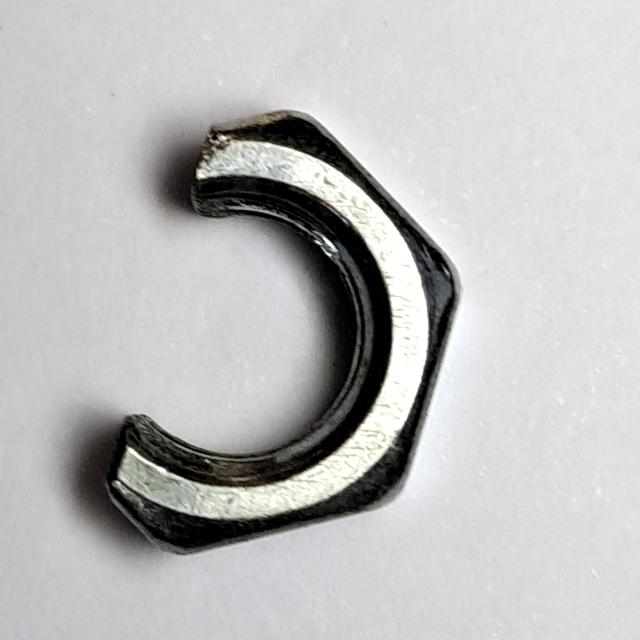Fracture: (85, 92, 483, 569)
